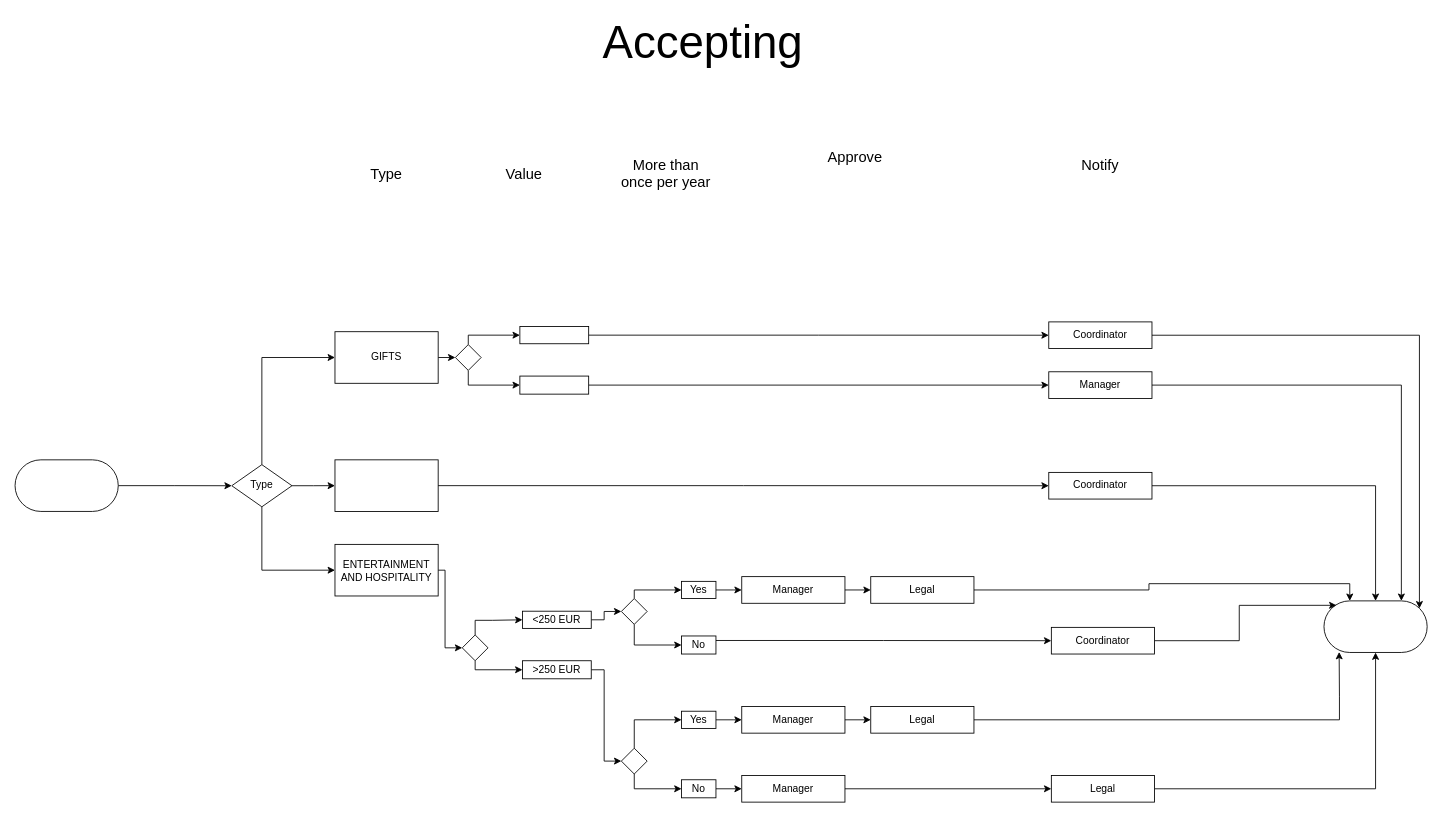
The diagram is 1442 pixels wide and 817 high, and some of its shapes have lost their labels. The centre of each missing label's shape, as x and y in pixels:
<100 EUR: (x=554, y=335)
>100 EUR: (x=554, y=384)
Approved: (x=1375, y=626)
BUSINESS MEALS: (x=386, y=485)
Submtted: (x=66, y=485)
